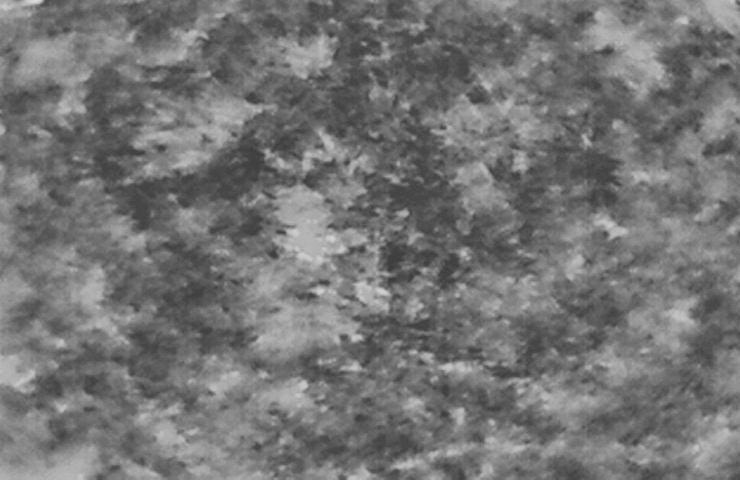landmines: (270, 185, 347, 267)
